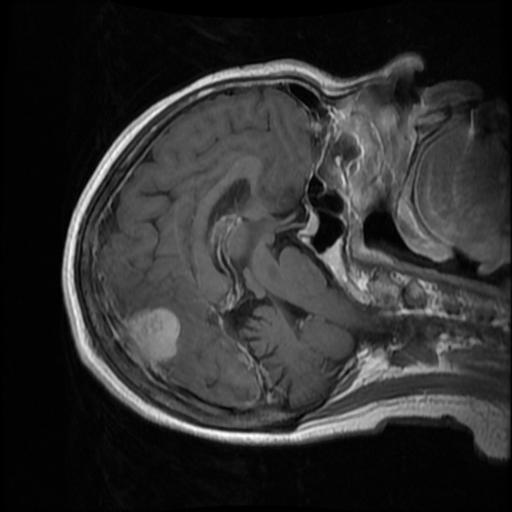meningioma: (117, 307, 179, 367)
